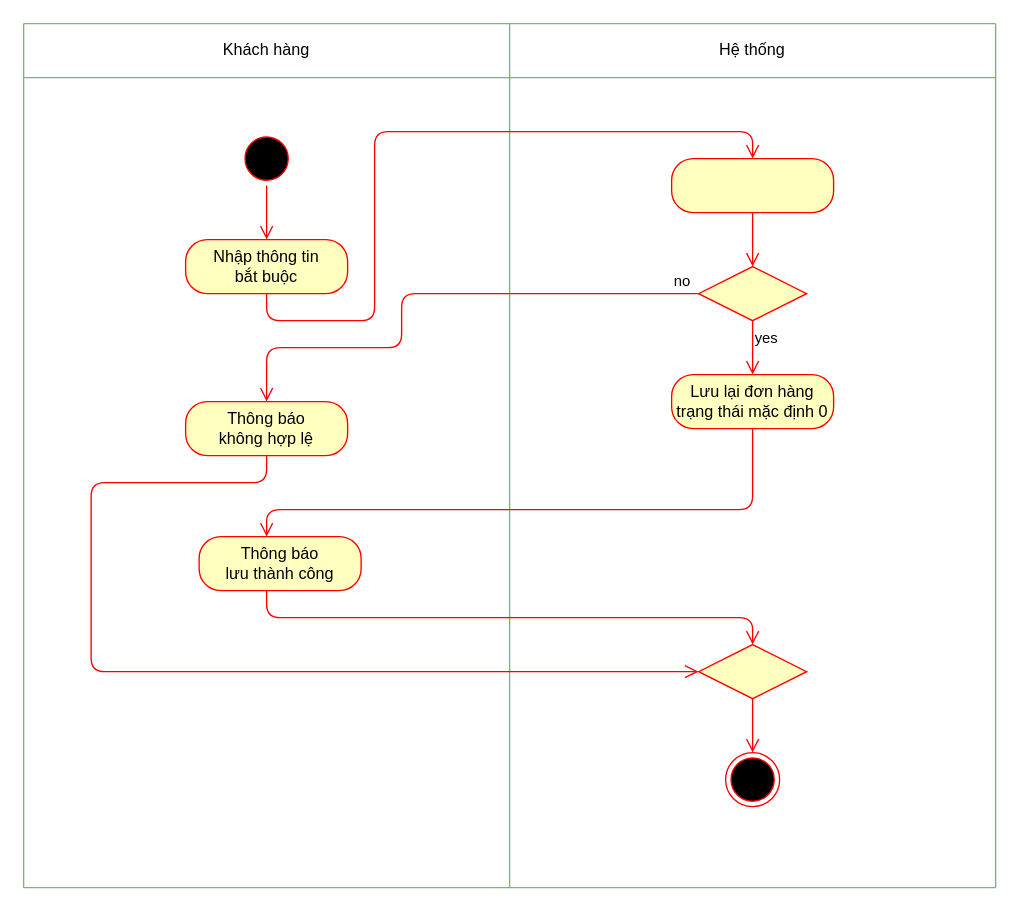
The diagram is 1021 pixels wide and 913 high, and some of its shapes have lost their labels. Each missing label, with the centre of its shape:
Condition: point (752, 293)
Kiểm tra tính hợp lệ: point (752, 185)
